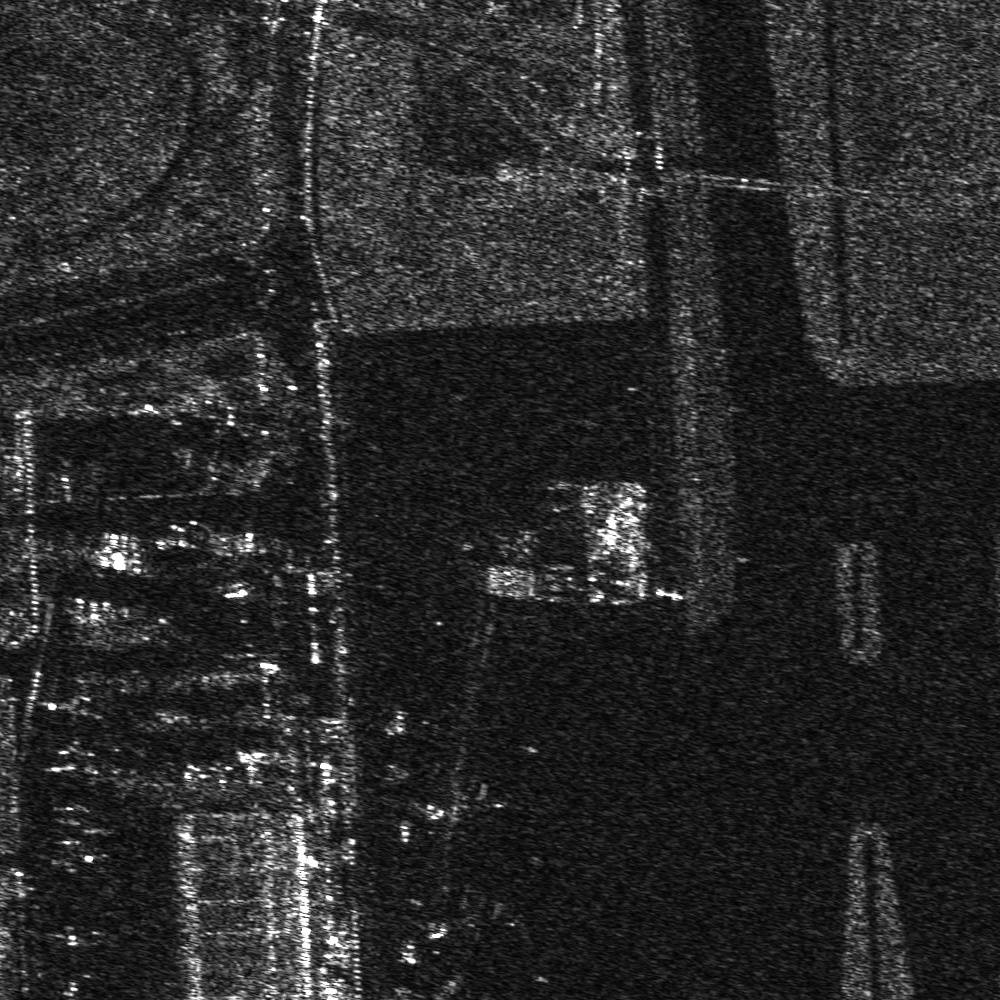A320/321: (422, 886, 523, 950)
Boeing737: (414, 776, 510, 849)
